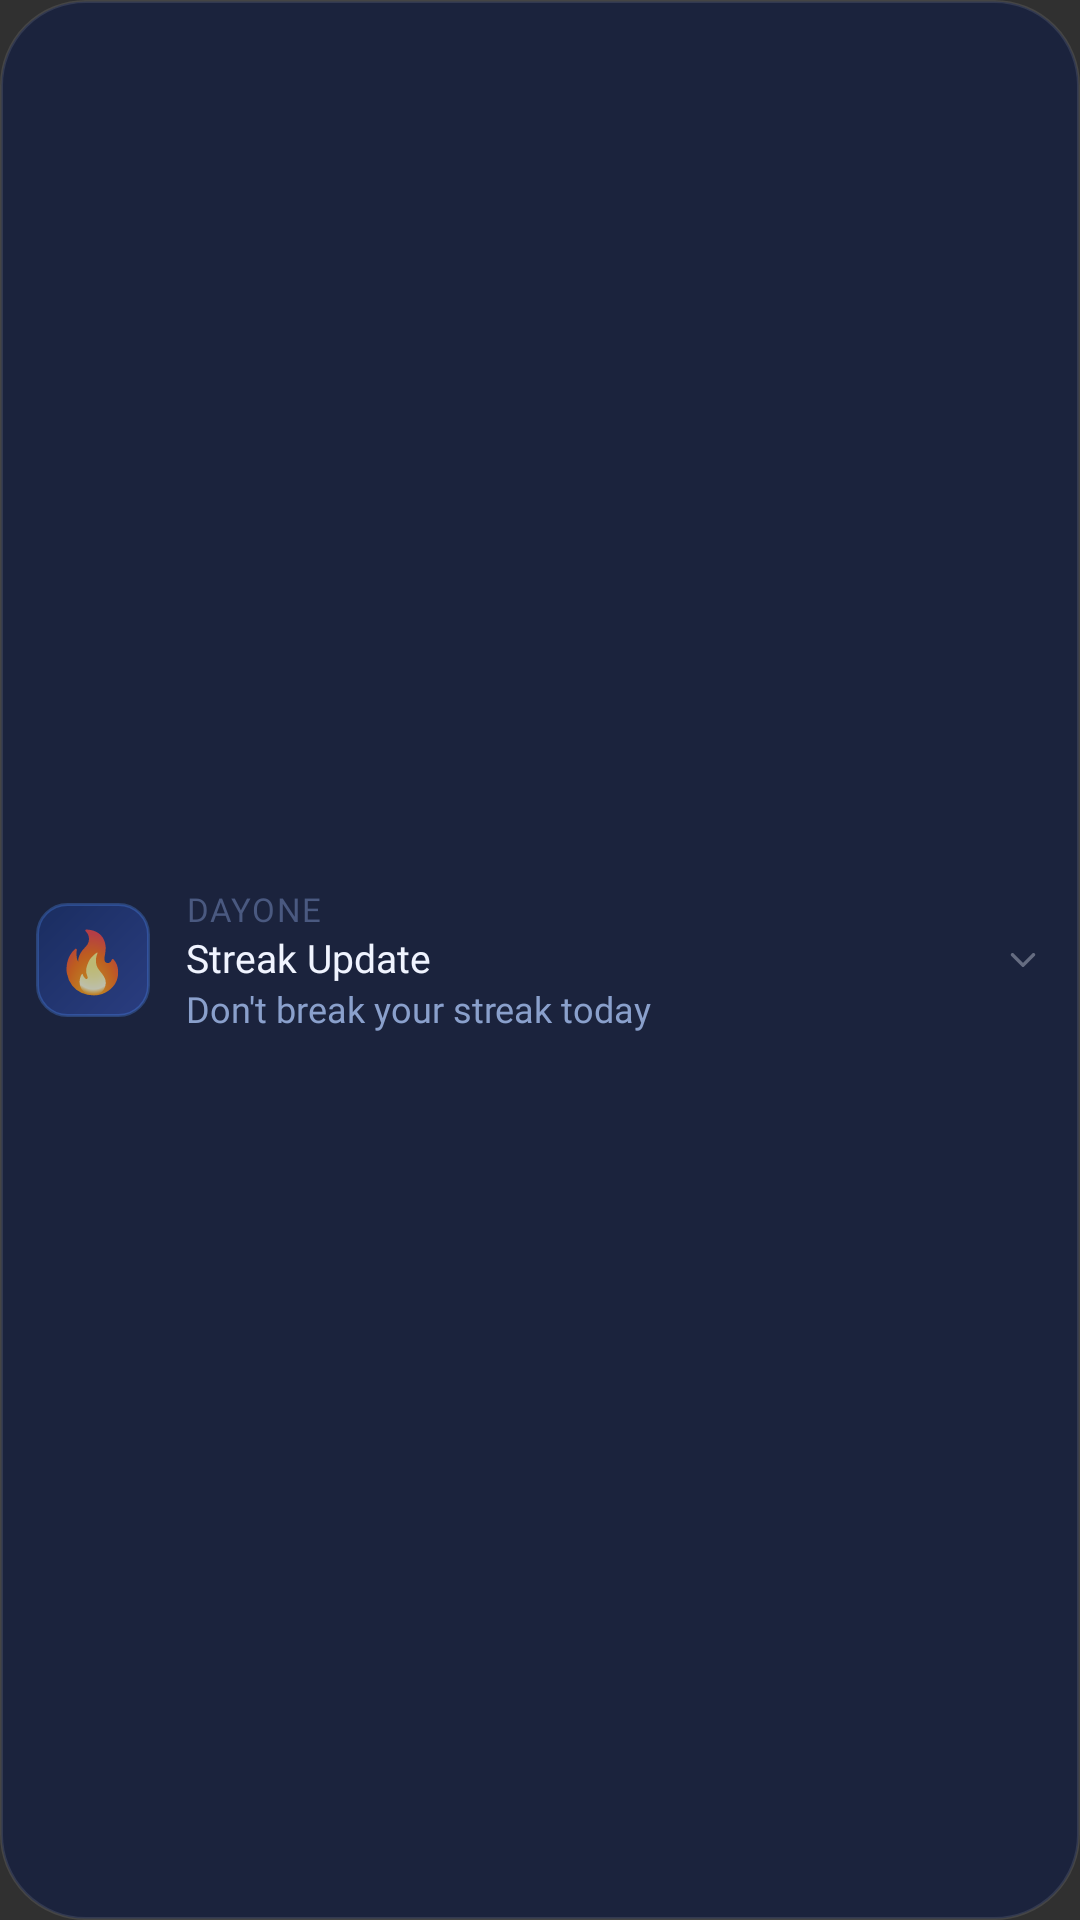

Point at icon controls on the screen. Image size 1080×1920, points as (x=x, y=y).
chevron down: (x=1023, y=960)
